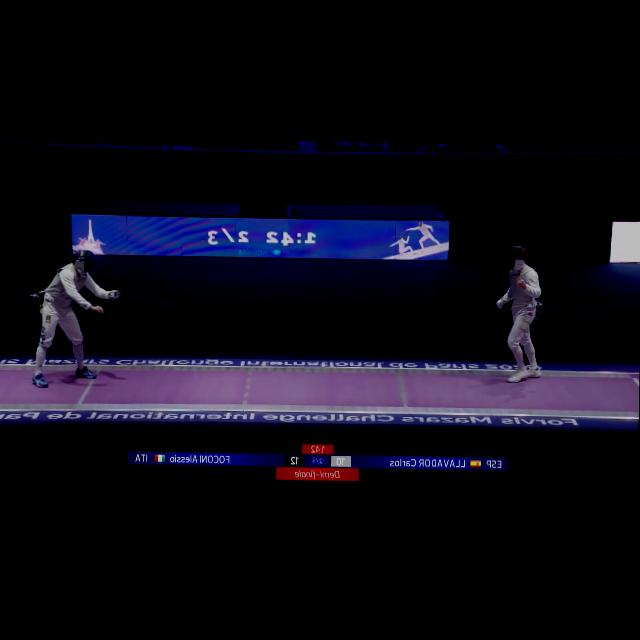blade: (108, 289, 177, 309)
